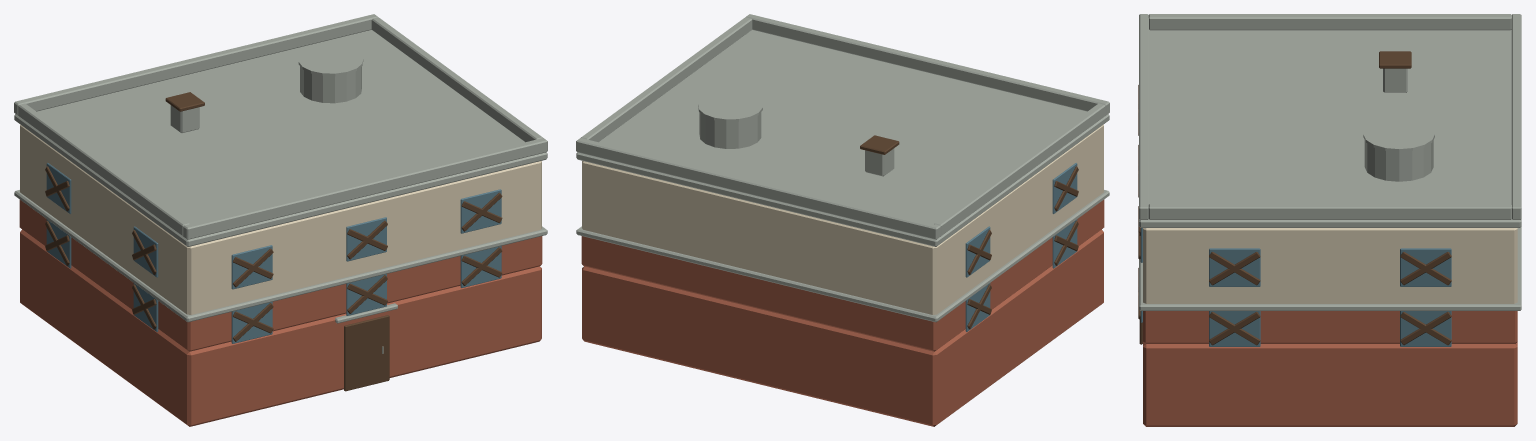
File: urban_rowhouse.glb
3 renders of one model, left to right at view 1: azimuth 30°, elevation 25°; view 2: azimuth 150°, elevation 25°; view 3: azimuth 270°, elevation 25°, orthographic. The views are drawn at different scales.
Visible parts, largest first — view 1: Occlude_Upper_Mesh, Keep_Mesh; view 2: Occlude_Upper_Mesh, Keep_Mesh; view 3: Occlude_Upper_Mesh, Keep_Mesh.
Boxes of the visible parts, left/top/right/bottom form: Occlude_Upper_Mesh: left=14, top=14, right=547, bottom=351; Keep_Mesh: left=20, top=229, right=541, bottom=426; Occlude_Upper_Mesh: left=576, top=14, right=1109, bottom=351; Keep_Mesh: left=582, top=229, right=1103, bottom=426; Occlude_Upper_Mesh: left=1138, top=14, right=1521, bottom=346; Keep_Mesh: left=1139, top=319, right=1517, bottom=426.
Size of the model in its own units: 12.03 by 7 by 10.02.
